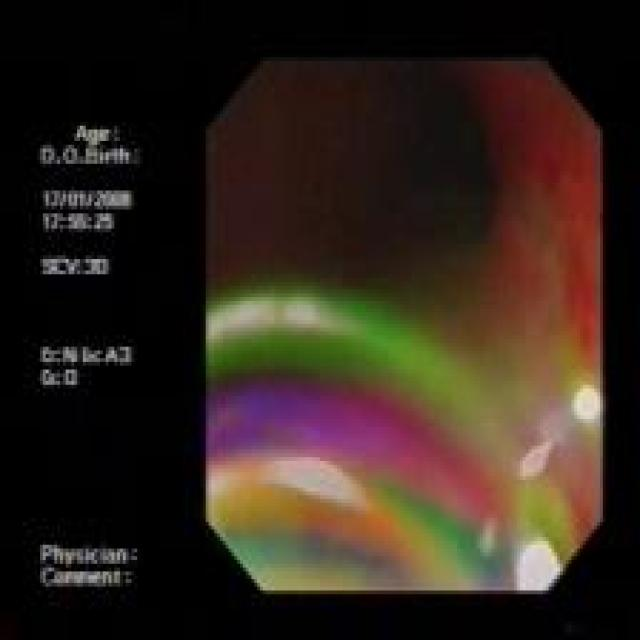color misalignment: (206, 276, 601, 591), (37, 117, 142, 591)
contrast: (207, 57, 498, 274)
